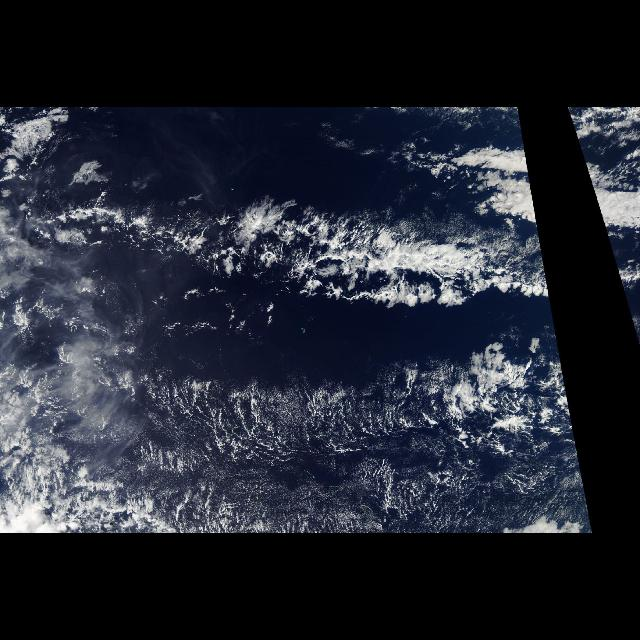Fish: (41, 173, 557, 341), (443, 344, 585, 480), (588, 177, 640, 337)
Gravel: (115, 364, 535, 530)
Sugar: (130, 386, 434, 532)
